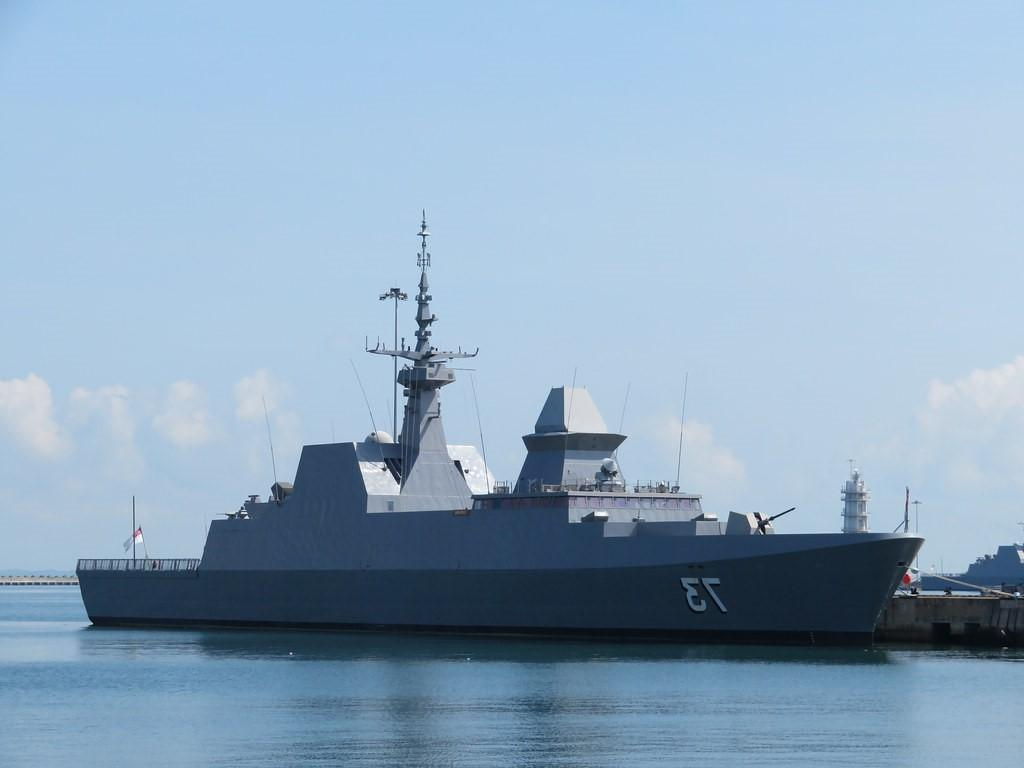Warship: (71, 208, 927, 650)
